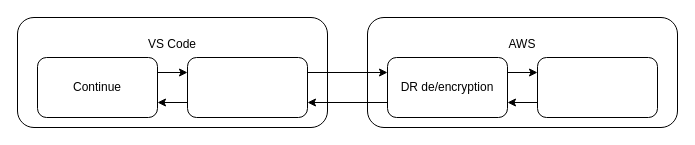
Image size: 695x145. Some labels were removed from this diagram. The shapes that lost their labels are listed below. From the top down, each one's centre as x and y in pixels, then its label:
At [247,87]: "DR Bridge".
At [597,87]: "Llama.cpp server".
